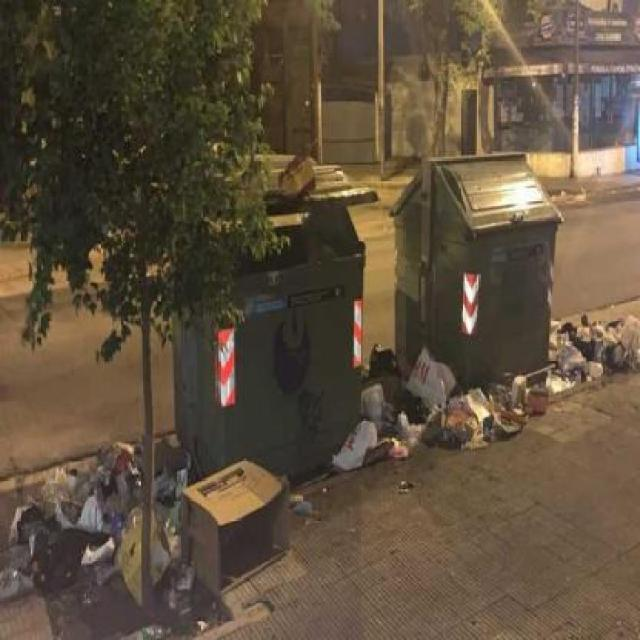garbage: (11, 446, 291, 638), (334, 405, 509, 455), (363, 340, 480, 406), (554, 320, 640, 376), (483, 369, 569, 421)
